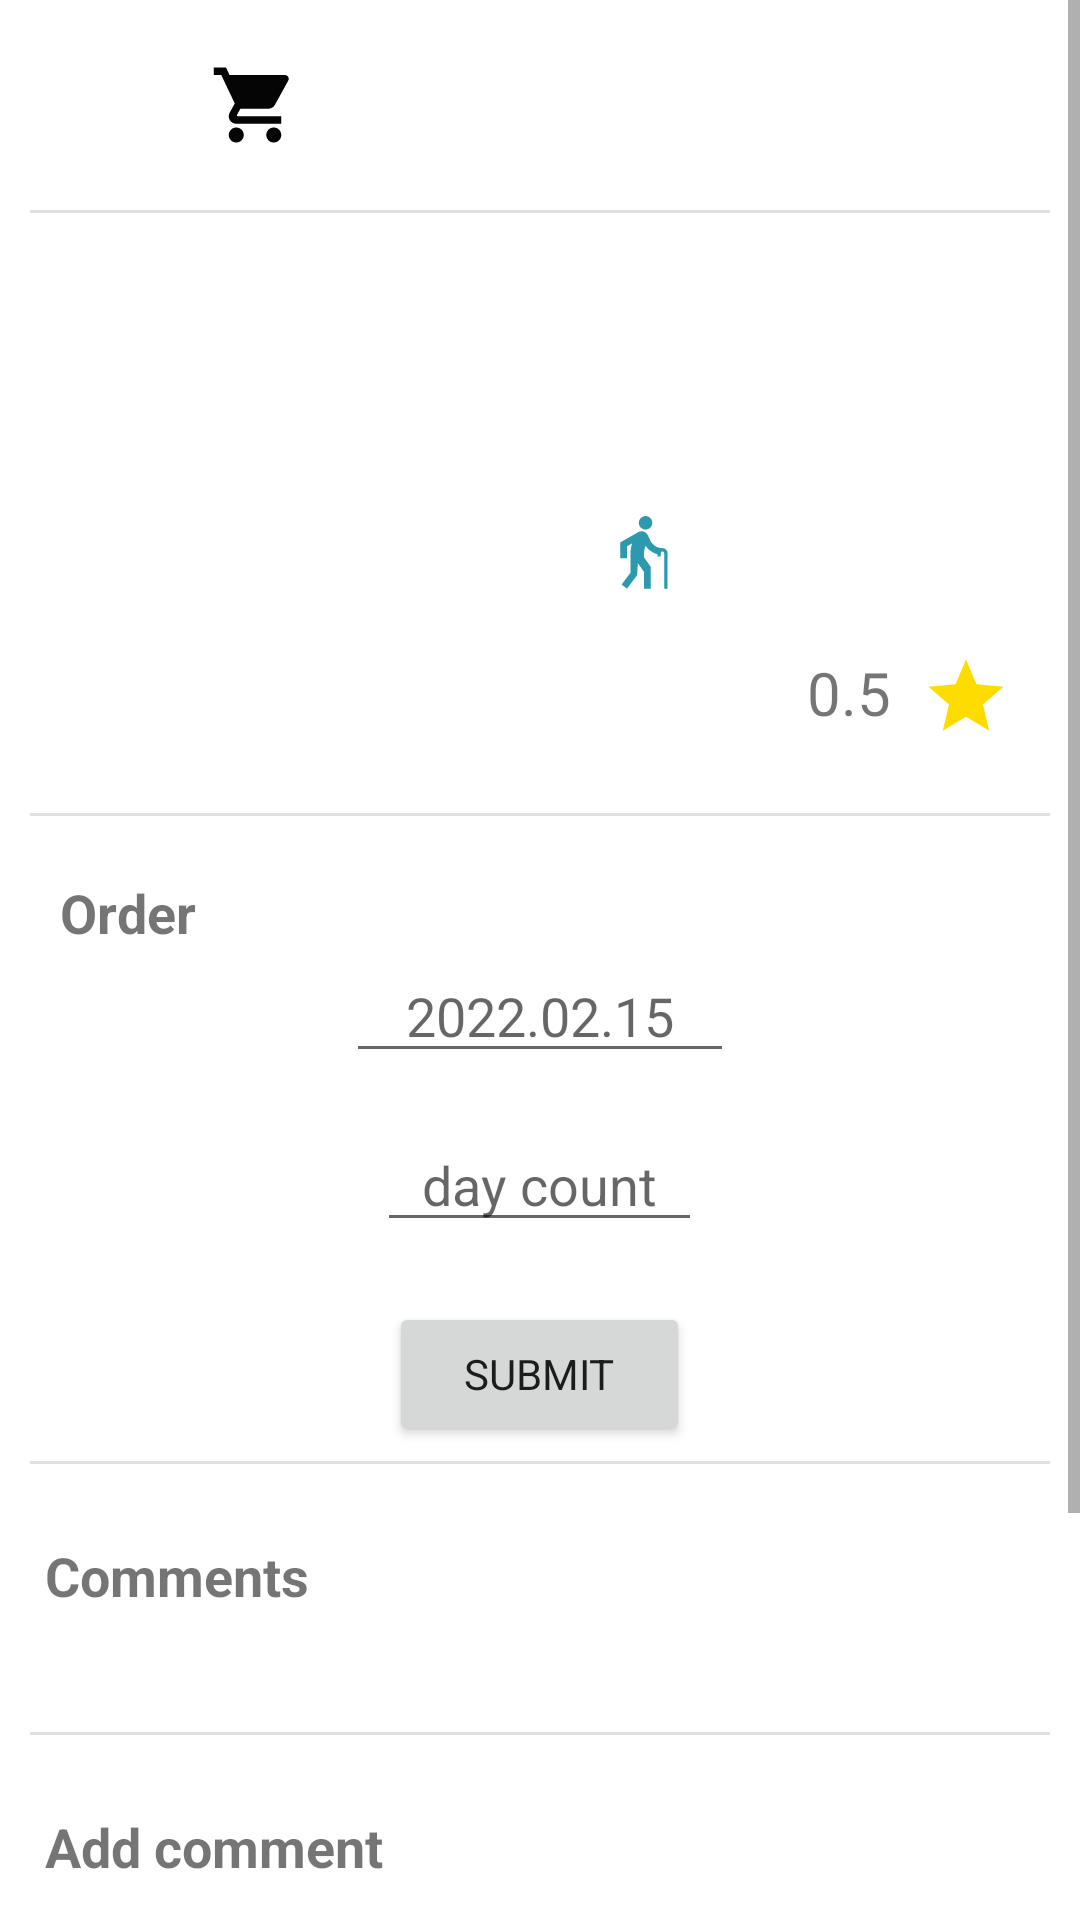

Screen size 1080px x 1920px. Icon name, then its box in pixels as (x1, y1, x2, y2):
elderly: (620, 516, 668, 589)
shopping cart: (213, 67, 289, 143)
star: (929, 660, 1003, 731)
